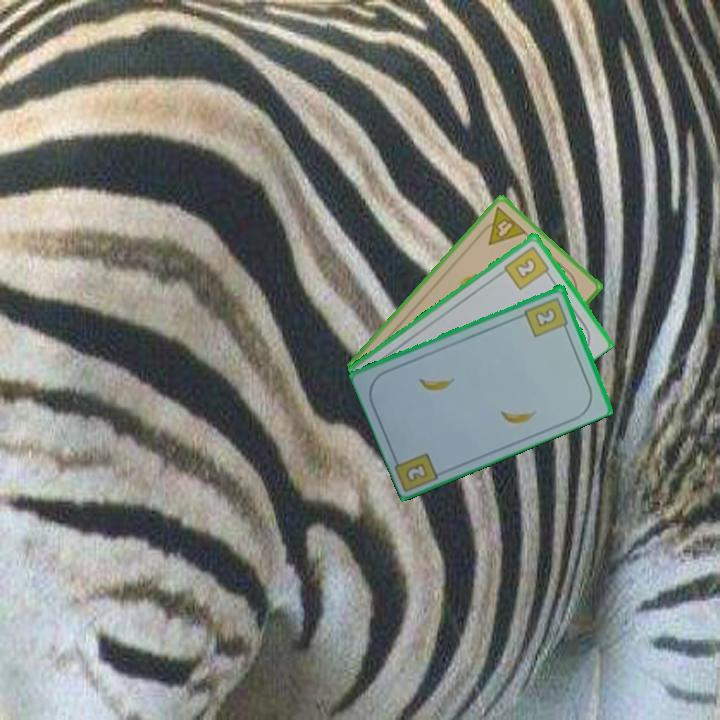2b: (501, 242, 554, 292), (521, 293, 571, 340), (390, 449, 443, 493)
4p: (475, 203, 530, 248)
